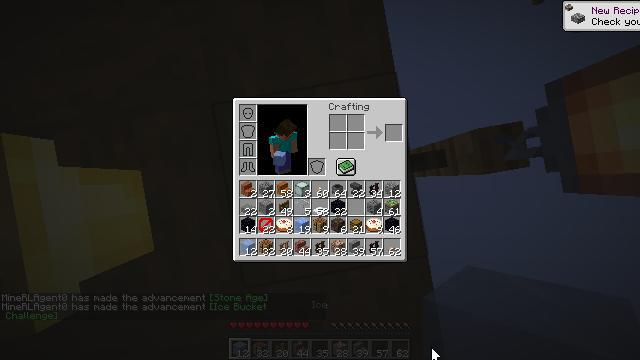cursor: (431, 347, 441, 360)
